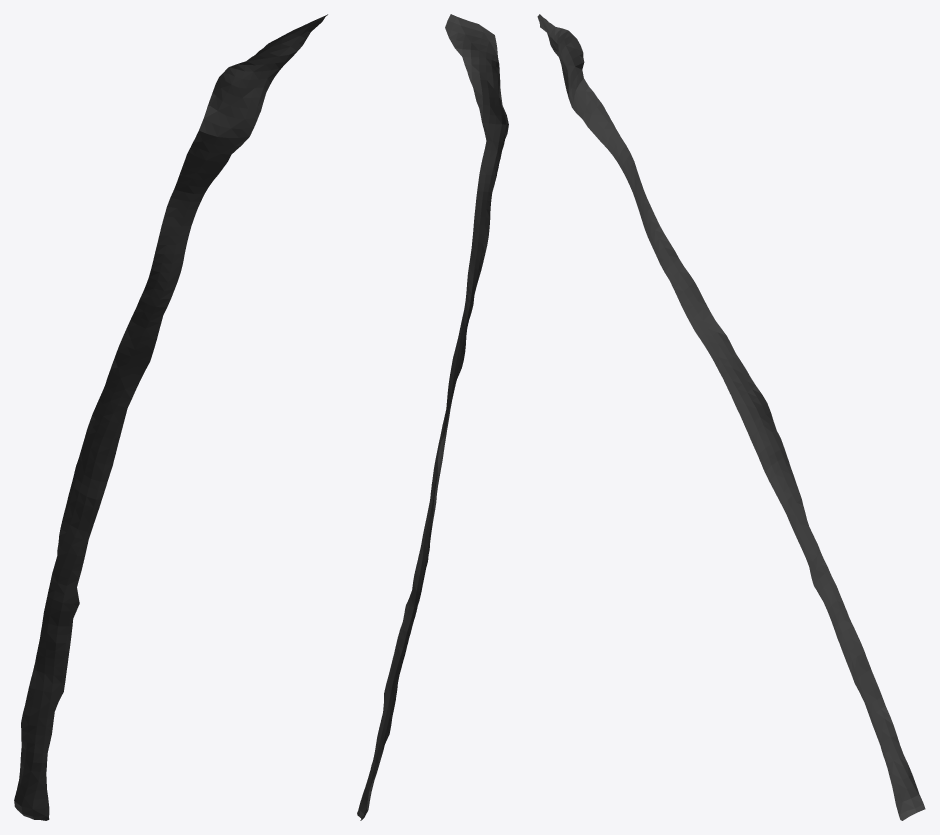
The model's file is eq_dist_limb_Medial_Palmar_Nerve.glb.
The picture shows the model from 3 angles, left to right: view 1: azimuth 30°, elevation 25°; view 2: azimuth 150°, elevation 25°; view 3: azimuth 270°, elevation 25°; orthographic projection. The views are drawn at different scales.
Parts seen in each view (by area): view 1: eq_dist_limb_Medial_Palmar_Nerve; view 2: eq_dist_limb_Medial_Palmar_Nerve; view 3: eq_dist_limb_Medial_Palmar_Nerve.
Part boxes in pixels (x1,y1,x2,y2): eq_dist_limb_Medial_Palmar_Nerve: [14, 14, 327, 820]; eq_dist_limb_Medial_Palmar_Nerve: [357, 14, 508, 820]; eq_dist_limb_Medial_Palmar_Nerve: [537, 14, 925, 820].
Size of the model in its own units: 0.00295 by 0.0219 by 0.00931.
1 material, 1 textured.
